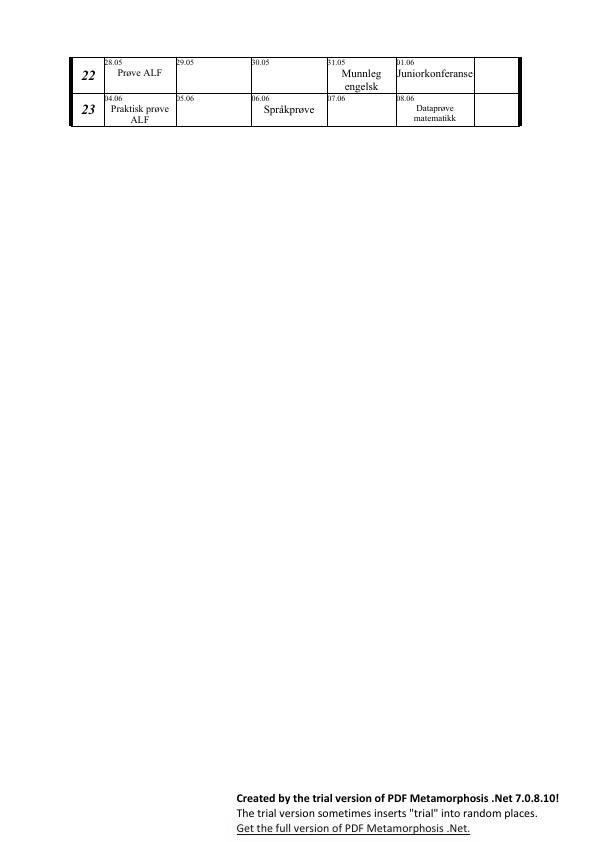table: (64, 54, 525, 131)
text: (232, 790, 564, 838)
